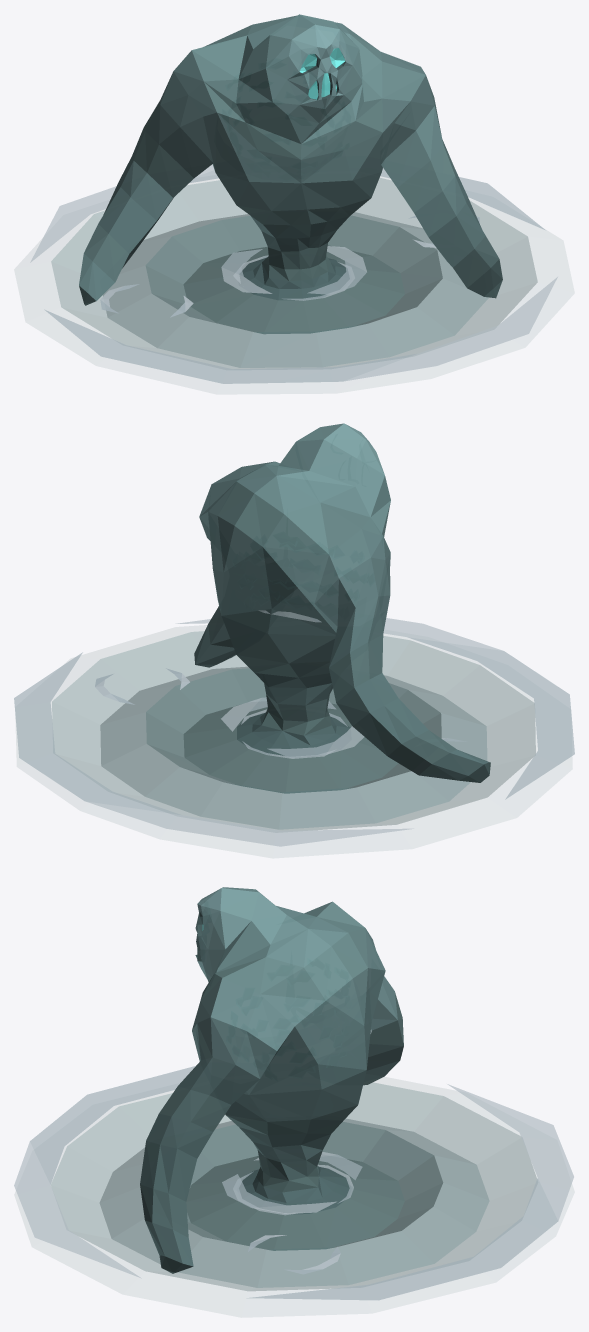
3 renders of one model, top to bottom at view 1: azimuth 30°, elevation 25°; view 2: azimuth 150°, elevation 25°; view 3: azimuth 270°, elevation 25°, orthographic. The views are drawn at different scales.
Bounding box in the file's own units: 964 × 555 × 920.
2 materials, 2 textured.
